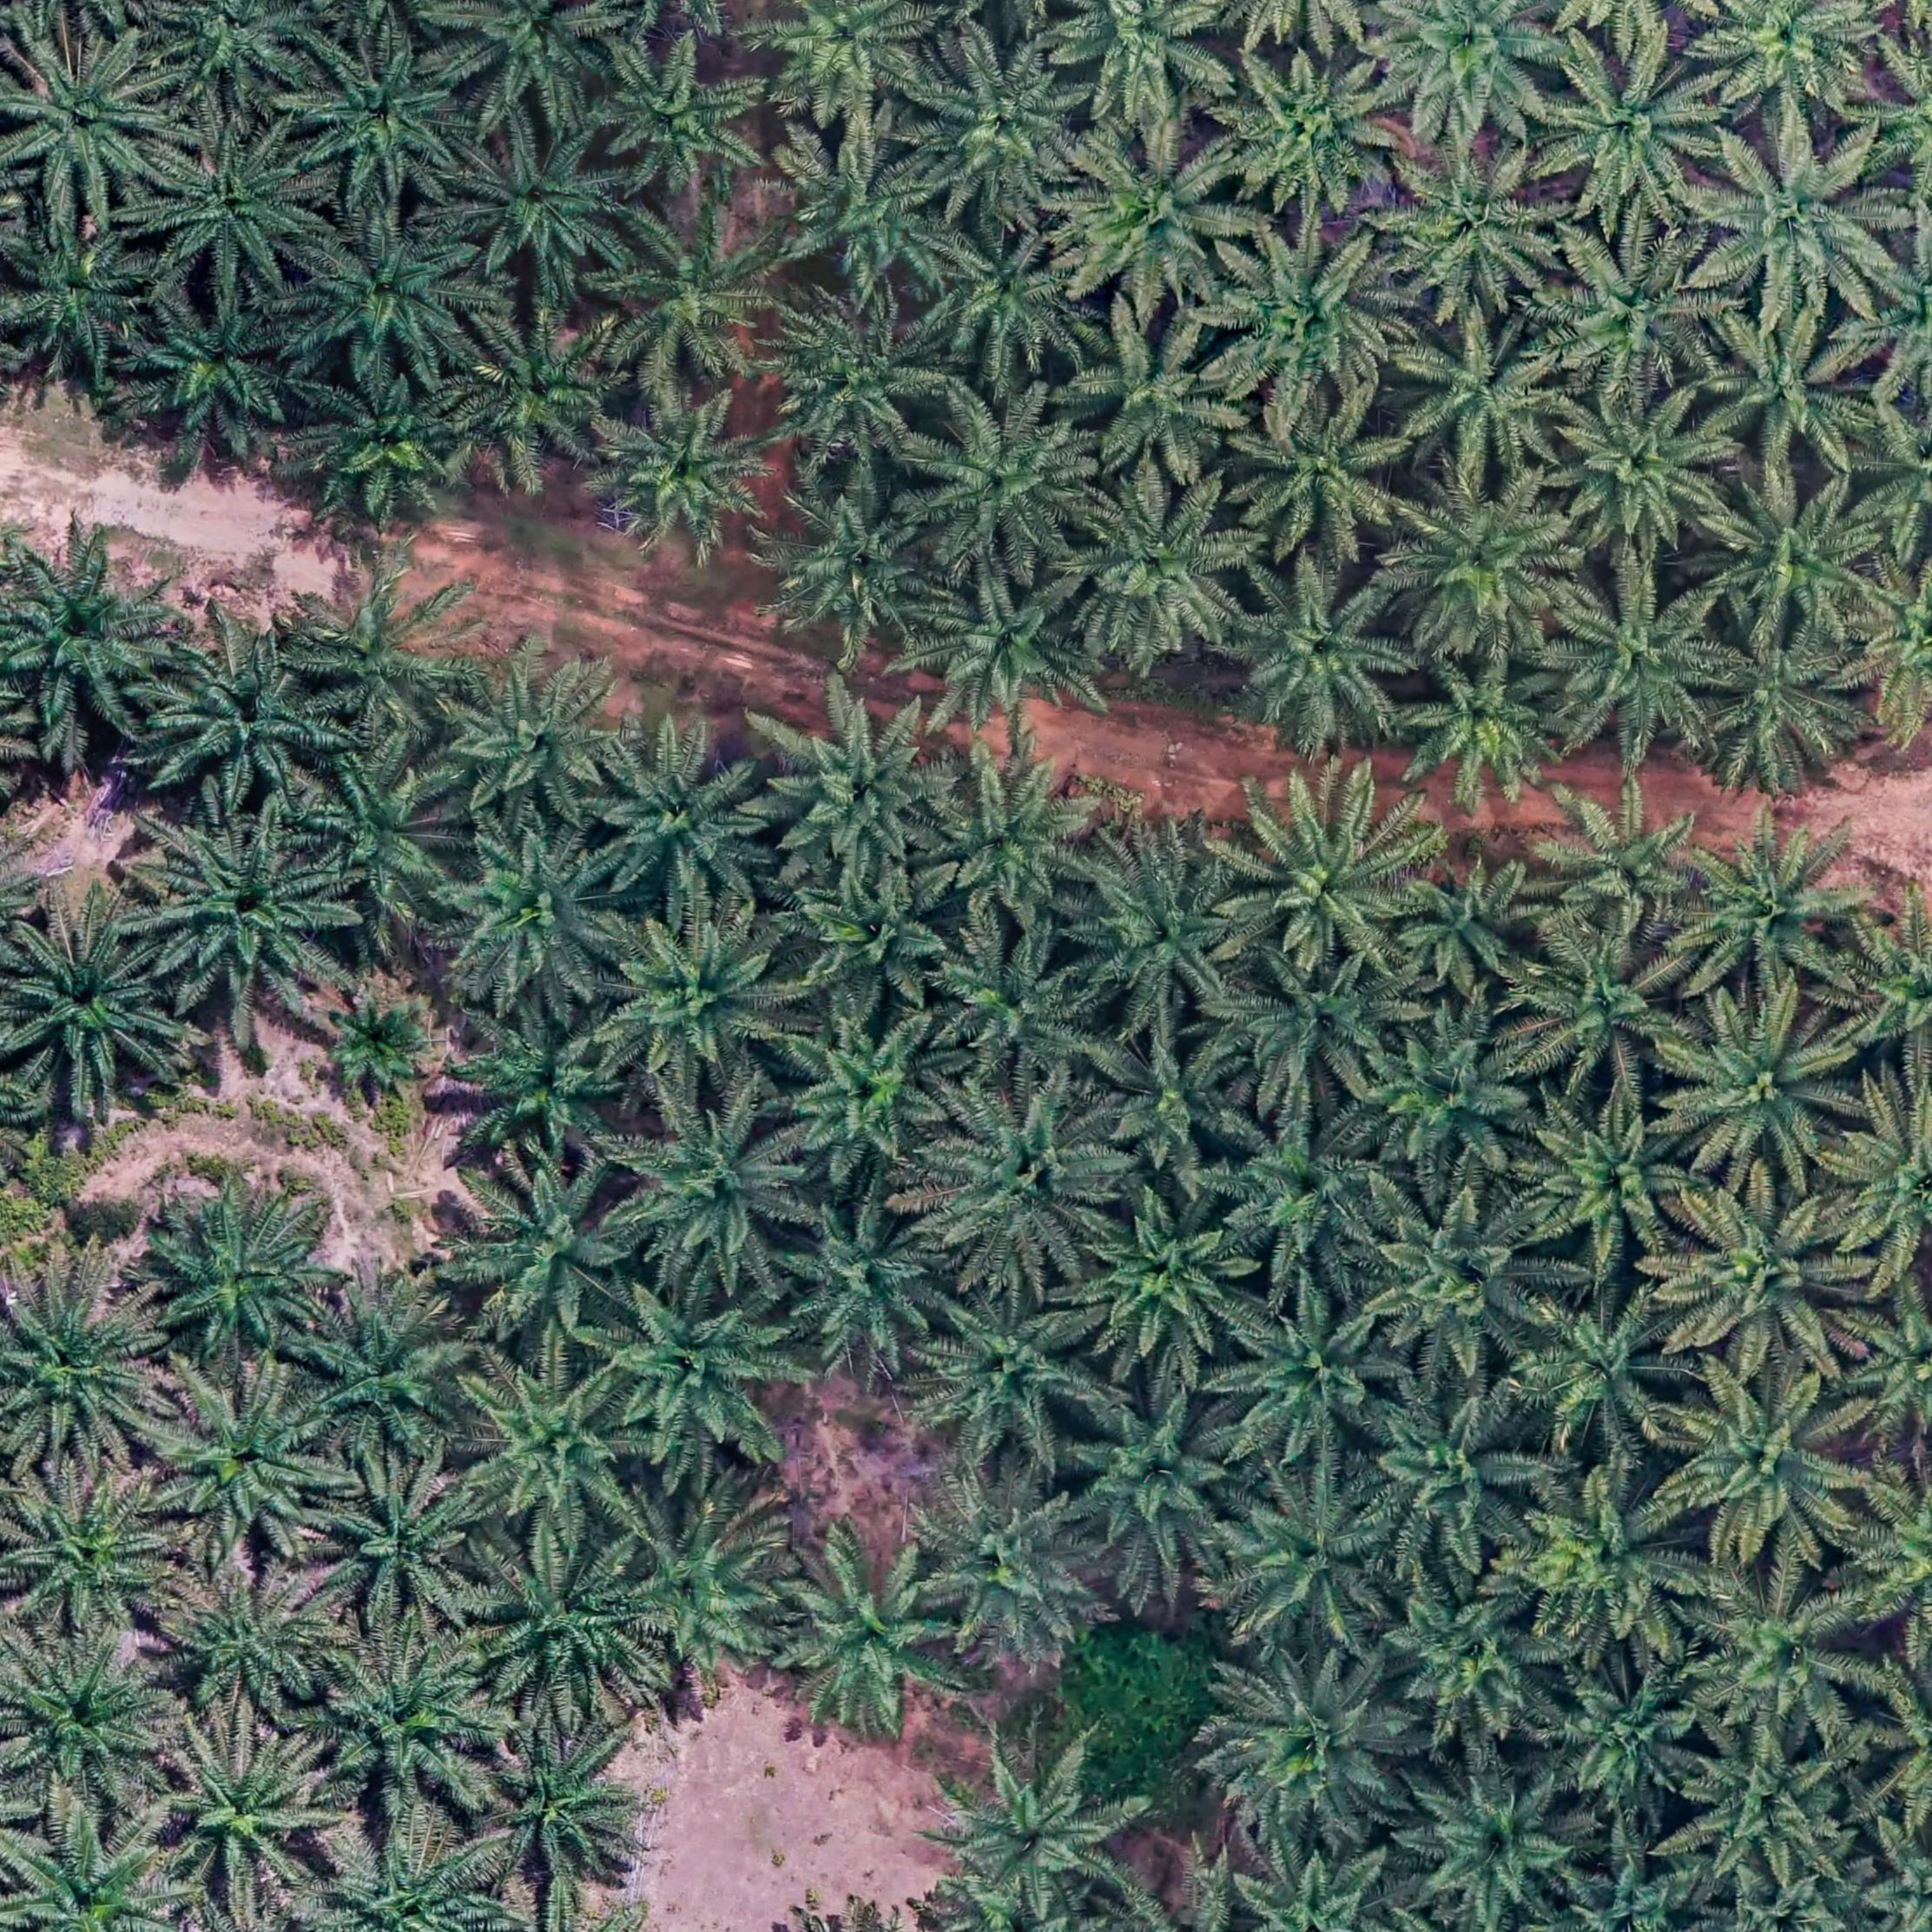palmtree: (1226, 770, 1438, 971), (1205, 1645, 1417, 1844), (768, 1529, 970, 1736), (138, 810, 352, 1005), (1371, 1164, 1568, 1375), (750, 685, 955, 881), (1668, 1368, 1877, 1560), (609, 1483, 805, 1686), (1215, 1093, 1405, 1304), (927, 1077, 1129, 1274), (1667, 1180, 1872, 1371), (430, 814, 633, 1003), (1693, 124, 1898, 310), (285, 1274, 487, 1461), (929, 1734, 1132, 1920), (143, 623, 343, 810), (1219, 559, 1415, 748), (1063, 839, 1260, 1028), (1668, 993, 1865, 1182), (449, 1155, 646, 1345), (1062, 1380, 1253, 1573), (603, 908, 805, 1090), (768, 842, 957, 1035), (619, 1090, 814, 1277), (1679, 810, 1875, 996), (1058, 126, 1256, 310), (4, 534, 186, 734), (593, 1272, 794, 1453), (1688, 1555, 1882, 1741), (584, 729, 778, 915), (909, 743, 1104, 929), (143, 1373, 340, 1557), (1672, 1723, 1874, 1902), (913, 1468, 1100, 1658), (770, 1000, 964, 1182), (1210, 225, 1410, 402), (1063, 472, 1258, 653), (456, 1350, 646, 1534), (1391, 1753, 1592, 1925), (598, 202, 786, 386), (1543, 568, 1730, 750), (1513, 1470, 1702, 1651), (1543, 379, 1736, 556), (0, 1267, 168, 1468), (1391, 471, 1578, 651), (911, 1283, 1100, 1461), (145, 1723, 336, 1900), (1537, 35, 1721, 218), (906, 32, 1090, 214), (1074, 1187, 1260, 1368), (464, 1711, 651, 1890), (5, 913, 182, 1102), (906, 561, 1095, 738), (1380, 138, 1569, 315), (469, 1530, 658, 1707), (140, 1187, 331, 1362), (763, 281, 952, 456), (287, 557, 471, 736), (764, 467, 947, 646), (1706, 467, 1891, 642), (295, 212, 488, 380), (308, 1451, 492, 1626), (1215, 44, 1403, 216), (310, 1633, 499, 1803), (444, 998, 635, 1166), (1221, 1474, 1401, 1651), (909, 400, 1093, 573), (1534, 770, 1725, 936), (1224, 1288, 1405, 1463), (1513, 1286, 1698, 1456), (1514, 1095, 1704, 1261), (591, 386, 782, 550), (1514, 916, 1697, 1088), (1226, 386, 1412, 554), (1357, 1008, 1545, 1175), (775, 1192, 952, 1368), (1373, 1387, 1552, 1560), (1536, 1649, 1716, 1821), (1391, 311, 1575, 479), (1380, 1566, 1562, 1734), (442, 660, 628, 824), (5, 1470, 180, 1644), (1065, 311, 1246, 478), (773, 126, 955, 290), (1394, 651, 1575, 816), (449, 126, 632, 288), (1698, 310, 1881, 471), (5, 1633, 177, 1803), (936, 918, 1109, 1085), (126, 285, 308, 442), (1224, 948, 1410, 1102), (1697, 617, 1868, 784), (147, 127, 320, 292), (297, 30, 471, 195), (156, 1559, 336, 1716), (5, 34, 173, 202), (593, 35, 768, 196), (1541, 234, 1714, 395), (453, 301, 626, 458), (1373, 0, 1573, 133), (0, 211, 157, 373), (322, 738, 455, 929), (920, 221, 1086, 372), (1392, 853, 1559, 998), (1093, 1021, 1256, 1166), (1693, 0, 1884, 119), (1051, 0, 1235, 120), (310, 379, 472, 513), (752, 0, 936, 115), (7, 1815, 184, 1932), (306, 1826, 499, 1932), (442, 0, 621, 111), (143, 0, 317, 110), (1230, 1842, 1408, 1932), (336, 996, 426, 1106)
